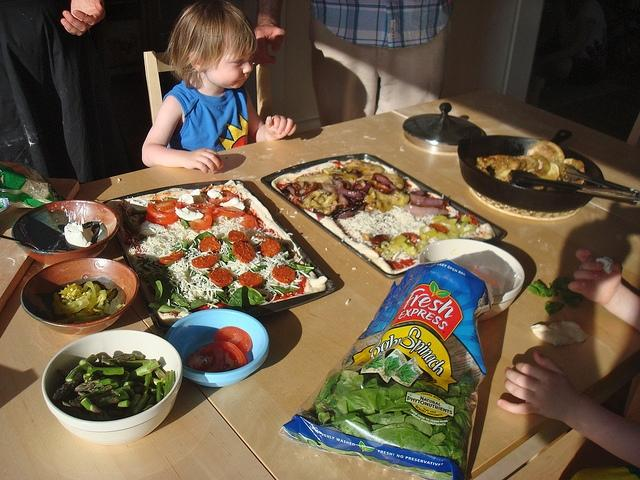tomato: (185, 340, 249, 372), (214, 326, 252, 354), (185, 202, 220, 218), (208, 190, 238, 207), (233, 241, 254, 264), (188, 212, 212, 232), (208, 268, 232, 287), (146, 215, 180, 226), (216, 206, 247, 218), (158, 251, 184, 264), (240, 214, 260, 230), (228, 230, 248, 243), (428, 223, 449, 234), (401, 232, 421, 243), (385, 260, 404, 270), (466, 214, 478, 224), (156, 199, 178, 203), (332, 161, 344, 168), (294, 198, 298, 206)
